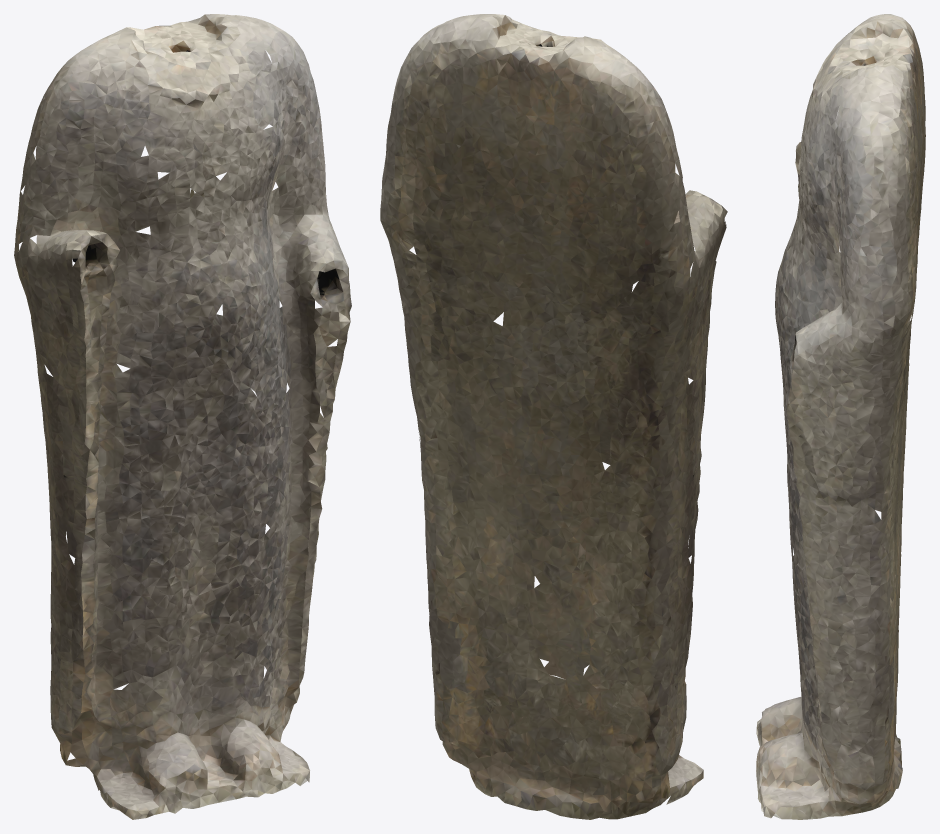
The picture shows the model from 3 angles, left to right: view 1: azimuth 30°, elevation 25°; view 2: azimuth 150°, elevation 25°; view 3: azimuth 270°, elevation 25°; orthographic projection. The views are drawn at different scales.
Visible parts, largest first — view 1: Object_5; view 2: Object_5; view 3: Object_5.
Part boxes in pixels (bbox=[...]): Object_5: bbox=[14, 14, 351, 819]; Object_5: bbox=[380, 14, 727, 819]; Object_5: bbox=[756, 14, 925, 819].
Bounding box in the file's own units: 6.33 × 15.09 × 3.15.
1 material, 1 textured.
